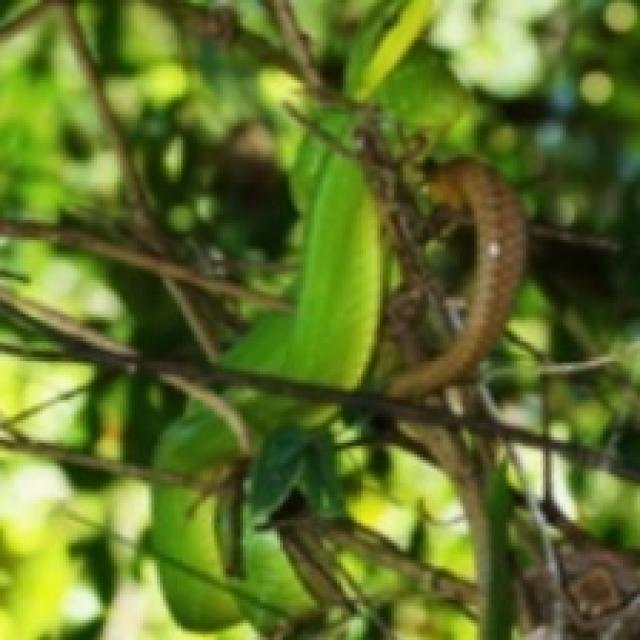red-tailed green ratsnake: (231, 106, 381, 387), (224, 152, 380, 387), (377, 160, 523, 397), (386, 160, 523, 397), (228, 186, 381, 387), (149, 485, 242, 630), (346, 0, 435, 101), (230, 390, 338, 451), (154, 401, 238, 477)
